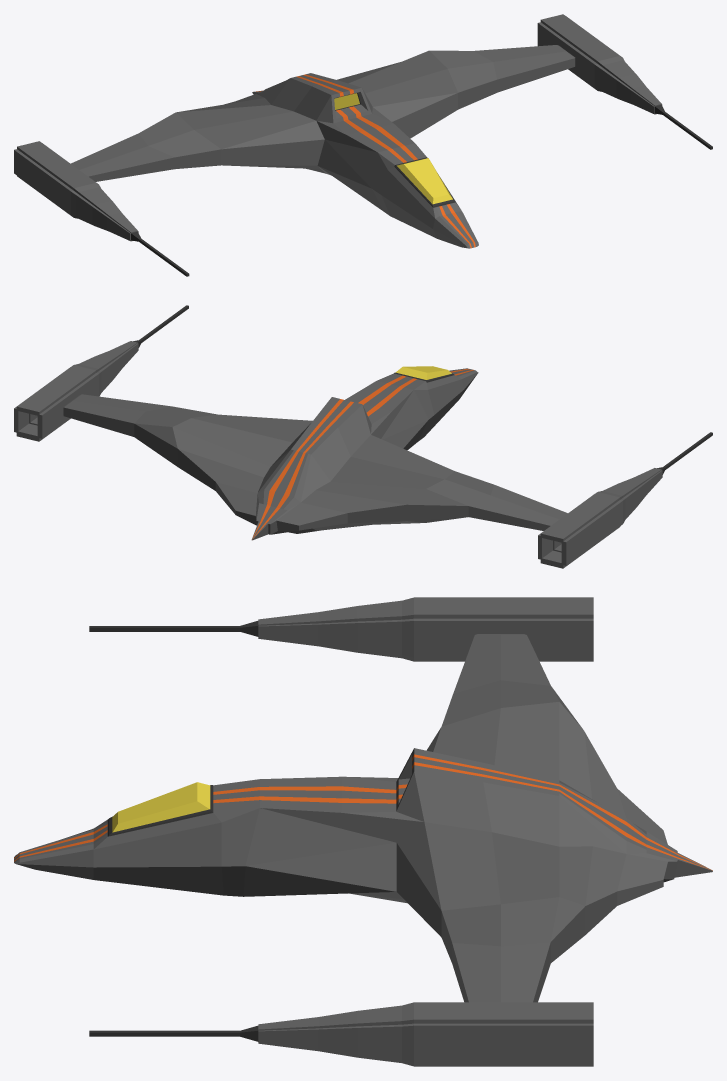
File: Spaceship.fbx
3 views of the same model, one above another, from view 1: azimuth 30°, elevation 25°; view 2: azimuth 150°, elevation 25°; view 3: azimuth 270°, elevation 25° (orthographic). The views are drawn at different scales.
Visible parts, largest first — view 1: Ship; view 2: Ship; view 3: Ship.
Boxes of the visible parts, x1,y1,x2,y2 form: Ship: (14, 14, 712, 276); Ship: (14, 305, 712, 568); Ship: (14, 597, 712, 1066).
Bounding box in the file's own units: 1841 × 291 × 1279.
